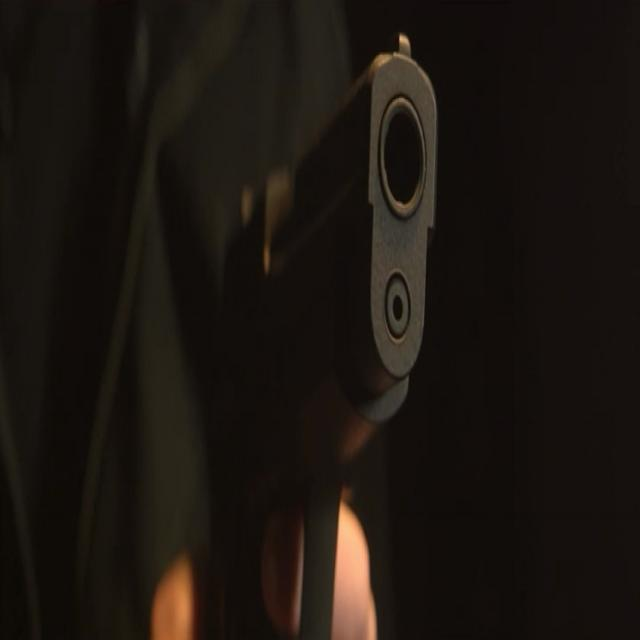gun-knife-thesis - v11 Yolov5 augmented: (208, 20, 469, 639)
